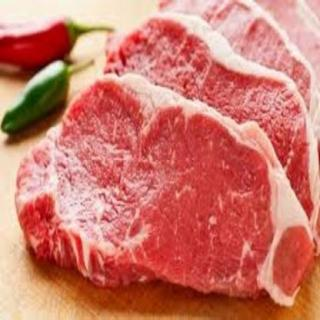Daging Sapi: (15, 2, 320, 305), (17, 76, 313, 310)
